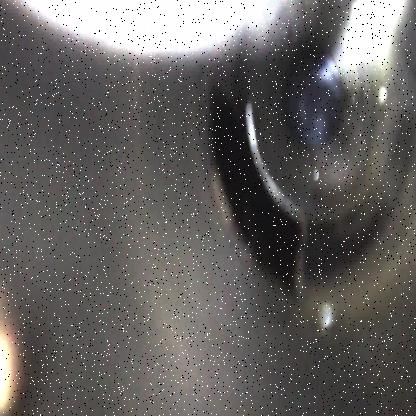Crack2: (209, 81, 306, 304)
